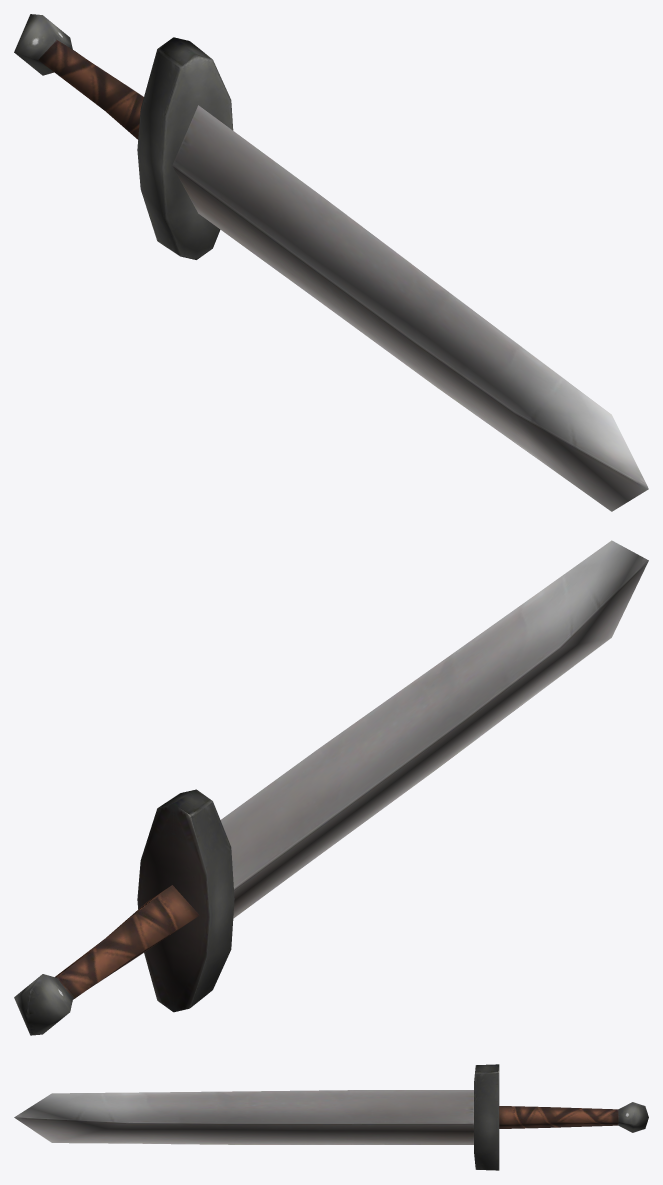
The model's file is 0000_sword.fbx.
The picture shows the model from 3 angles, top to bottom: view 1: azimuth 30°, elevation 25°; view 2: azimuth 150°, elevation 25°; view 3: azimuth 270°, elevation 25°; orthographic projection. The views are drawn at different scales.
Parts seen in each view (by area): view 1: 0000_sword; view 2: 0000_sword; view 3: 0000_sword.
Part boxes in pixels (box(x1,y1,x2,y2)): 0000_sword: box(14, 14, 648, 511); 0000_sword: box(14, 540, 648, 1035); 0000_sword: box(14, 1064, 648, 1170).
Bounding box in the file's own units: 0.1399 × 0.3838 × 2.08.
